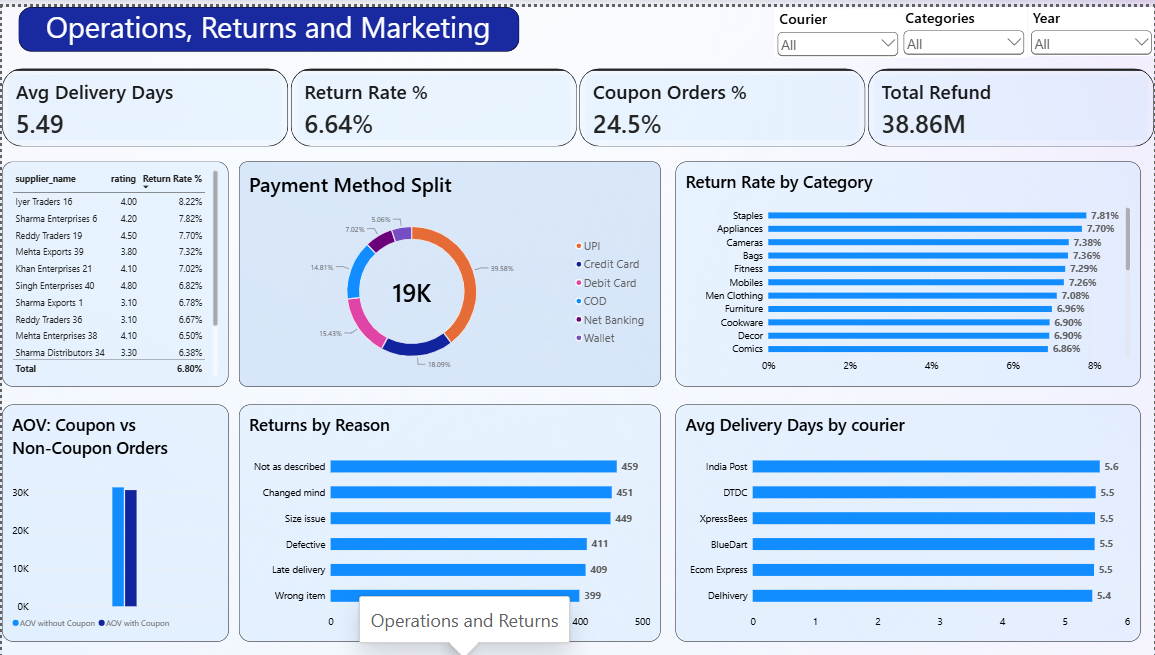

This screenshot's page, from the dashboard's own definition file:
{"tool":"powerbi","page":{"name":"Operations and Returns","canvas":[1920,1080],"ordinal":2},"visuals":[{"type":"shape","box":[27.3,0,834.9,74.5],"z":0},{"type":"textbox","box":[24.8,0,837.4,74.5],"z":1000},{"type":"slicer","fields":{"Values":["Date.Year"]},"box":[1709.5,0,211.2,82],"z":2000},{"type":"slicer","title":"State","fields":{"Values":["Categories.category_name"]},"box":[1498.3,0,211.2,84.5],"z":3000},{"type":"slicer","fields":{"Values":["Clean_orders.courier"]},"box":[1287.1,2.5,211.2,82],"z":4000},{"type":"cardVisual","fields":{"Data":["_Measures.Avg Delivery Days","_Measures.Return Rate %","_Measures.Coupon Orders %","_Measures.Total Refund"]},"box":[0,102.5,1920,130],"z":5000},{"type":"clusteredBarChart","fields":{"Category":["Clean_orders.courier"],"Y":["_Measures.Avg Delivery Days"]},"box":[1122.5,662.5,775,395],"z":6000},{"type":"clusteredBarChart","title":"Return Rate by Category","fields":{"Category":["Categories.category_name"],"Y":["_Measures.Return Rate %"]},"box":[1122.5,257.5,775,375],"z":7000},{"type":"clusteredBarChart","title":"Returns by Reason","fields":{"Category":["Returns.reason"],"Y":["CountNonNull(Returns.return_id)"]},"box":[395,662.5,702.5,395],"z":8000},{"type":"donutChart","title":"Payment Method Split","fields":{"Category":["Clean_orders.payment_method"],"Y":["_Measures.Total Orders"]},"box":[395,257.5,702.5,375],"z":9000},{"type":"tableEx","fields":{"Values":["Suppliers.supplier_name","Suppliers.rating","_Measures.Return Rate %"]},"box":[0,257.5,377.5,375],"z":10000},{"type":"clusteredColumnChart","title":"AOV: Coupon vs Non-Coupon Orders","fields":{"Y":["_Measures.AOV without Coupon","_Measures.AOV with Coupon"]},"box":[0,663,378,395],"z":11000}]}

Visuals, with their boxes in screenshot pixels (x1, y1, x2, y2), scaled from the page's 1920x1080 canvas onto the 1155x655 screenshot:
shape: BBox(16, 0, 519, 45)
textbox: BBox(15, 0, 519, 45)
slicer - Date.Year: BBox(1028, 0, 1154, 50)
"State" slicer: BBox(901, 0, 1028, 51)
slicer - Clean_orders.courier: BBox(774, 2, 901, 51)
cardVisual - _Measures.Avg Delivery Days x _Measures.Return Rate %: BBox(0, 62, 1154, 141)
clusteredBarChart - Clean_orders.courier x _Measures.Avg Delivery Days: BBox(675, 402, 1141, 641)
"Return Rate by Category" clusteredBarChart: BBox(675, 156, 1141, 384)
"Returns by Reason" clusteredBarChart: BBox(238, 402, 660, 641)
"Payment Method Split" donutChart: BBox(238, 156, 660, 384)
tableEx - Suppliers.supplier_name x Suppliers.rating: BBox(0, 156, 227, 384)
"AOV: Coupon vs Non-Coupon Orders" clusteredColumnChart: BBox(0, 402, 227, 642)
